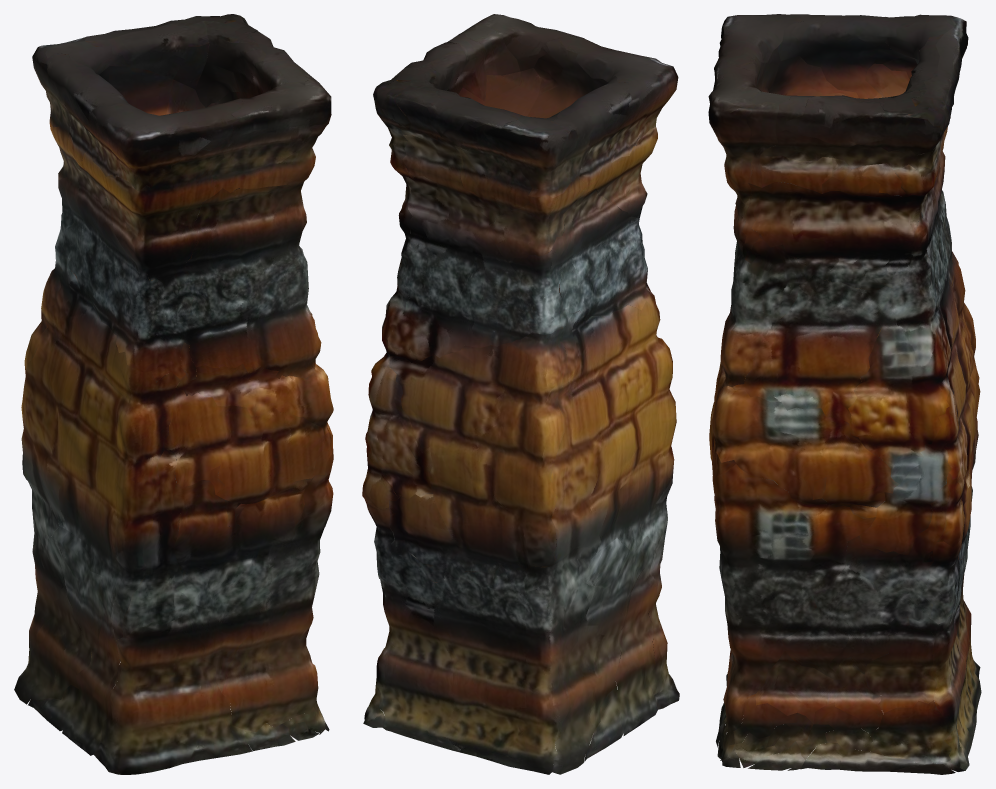
The model's file is torre.glb.
3 views of the same model, side by side, from view 1: azimuth 30°, elevation 25°; view 2: azimuth 150°, elevation 25°; view 3: azimuth 270°, elevation 25° (orthographic). The views are drawn at different scales.
Parts seen in each view (by area): view 1: Mesh_0; view 2: Mesh_0; view 3: Mesh_0.
Boxes of the visible parts, box(x1,y1,x2,y2) form: Mesh_0: box(14, 14, 333, 774); Mesh_0: box(362, 14, 679, 774); Mesh_0: box(708, 14, 981, 774).
Bounding box in the file's own units: 0.4285 × 1.17 × 0.4371.
1 material, 1 textured.
